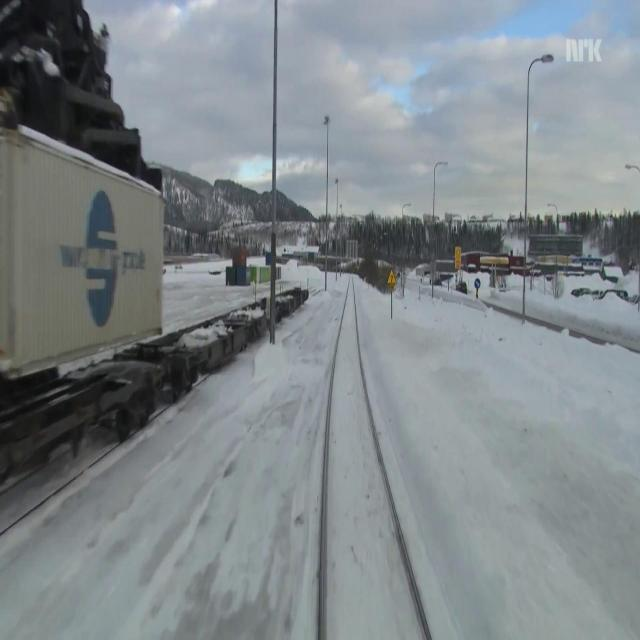rail-track: (323, 273, 427, 639)
